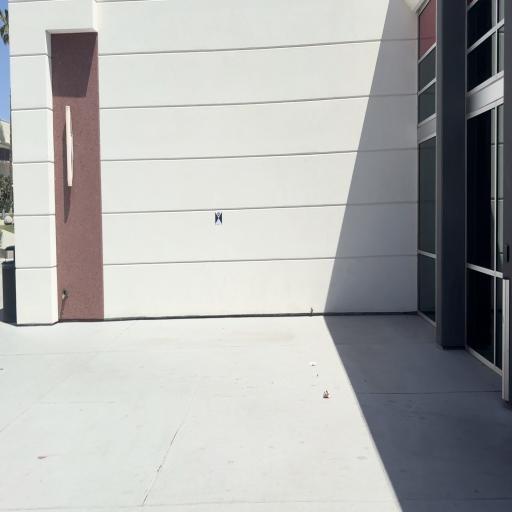target0: (215, 210, 222, 225)
